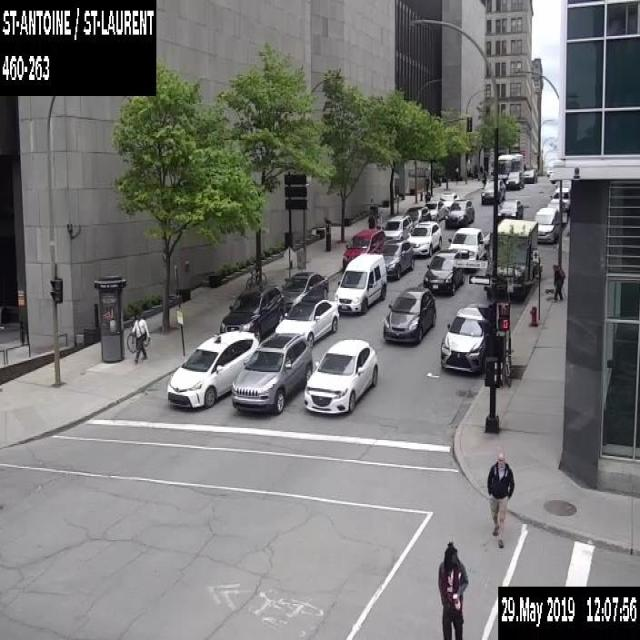bus: (497, 152, 522, 182)
pedestrian: (436, 538, 469, 638), (486, 451, 516, 549), (131, 309, 151, 364), (551, 261, 565, 300), (366, 212, 376, 228), (376, 210, 384, 228), (424, 174, 429, 191), (424, 190, 430, 203), (478, 162, 482, 179)
vehicle: (167, 329, 258, 408), (231, 331, 312, 413), (303, 338, 377, 413), (483, 217, 538, 300), (219, 283, 283, 342), (439, 303, 489, 373), (333, 252, 386, 313), (274, 298, 338, 346), (383, 286, 435, 342), (279, 270, 328, 313), (422, 249, 465, 295), (447, 227, 490, 271), (342, 228, 385, 270), (381, 238, 414, 280), (406, 220, 441, 256), (533, 207, 559, 243), (444, 200, 474, 227), (382, 214, 413, 239), (480, 178, 505, 204), (403, 205, 430, 227), (423, 199, 447, 222), (497, 198, 522, 220), (546, 198, 566, 225), (548, 186, 571, 209), (505, 170, 524, 188), (438, 191, 458, 208), (522, 168, 536, 182)
